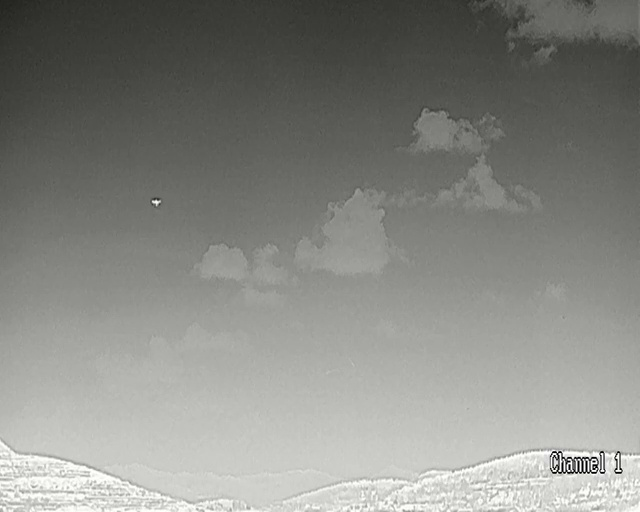uav: (152, 199, 161, 206)
